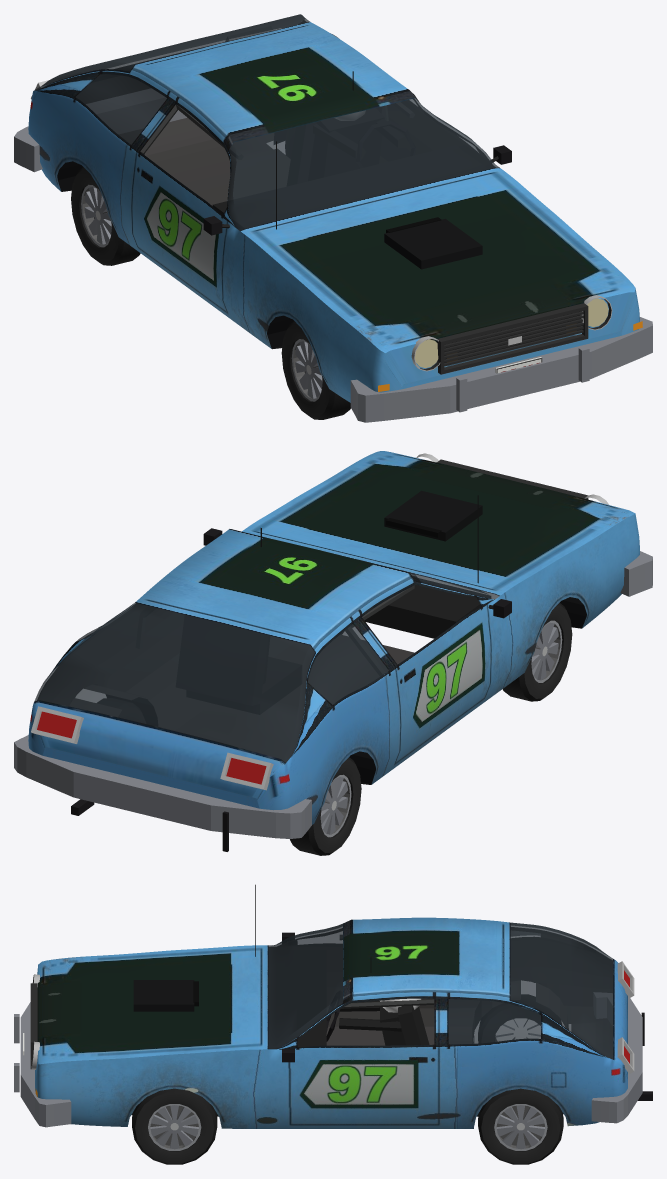
3 views of the same model, one above another, from view 1: azimuth 30°, elevation 25°; view 2: azimuth 150°, elevation 25°; view 3: azimuth 270°, elevation 25° (orthographic). The views are drawn at different scales.
Parts seen in each view (by area): view 1: body, wheel_fr, wheel_rr; view 2: body, wheel_rr, wheel_fr; view 3: body, wheel_fl, wheel_rl, wheel_rr.
Boxes of the visible parts, x1,y1,x2,y2 form: body: (14, 14, 652, 422); wheel_fr: (281, 321, 350, 419); wheel_rr: (71, 167, 140, 265); body: (14, 451, 652, 851); wheel_rr: (290, 757, 361, 855); wheel_fr: (502, 602, 572, 701); body: (14, 884, 652, 1128); wheel_fl: (132, 1088, 217, 1164); wheel_rl: (478, 1088, 563, 1164); wheel_rr: (478, 994, 561, 1042).
Size of the model in its own units: 1.96 by 1.47 by 4.41.
3 materials, 2 textured.
